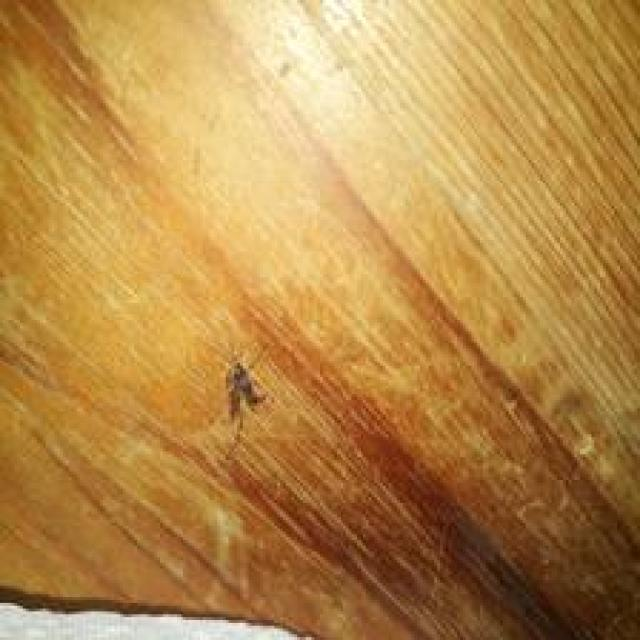Aedes albopictus: (223, 357, 268, 437)
